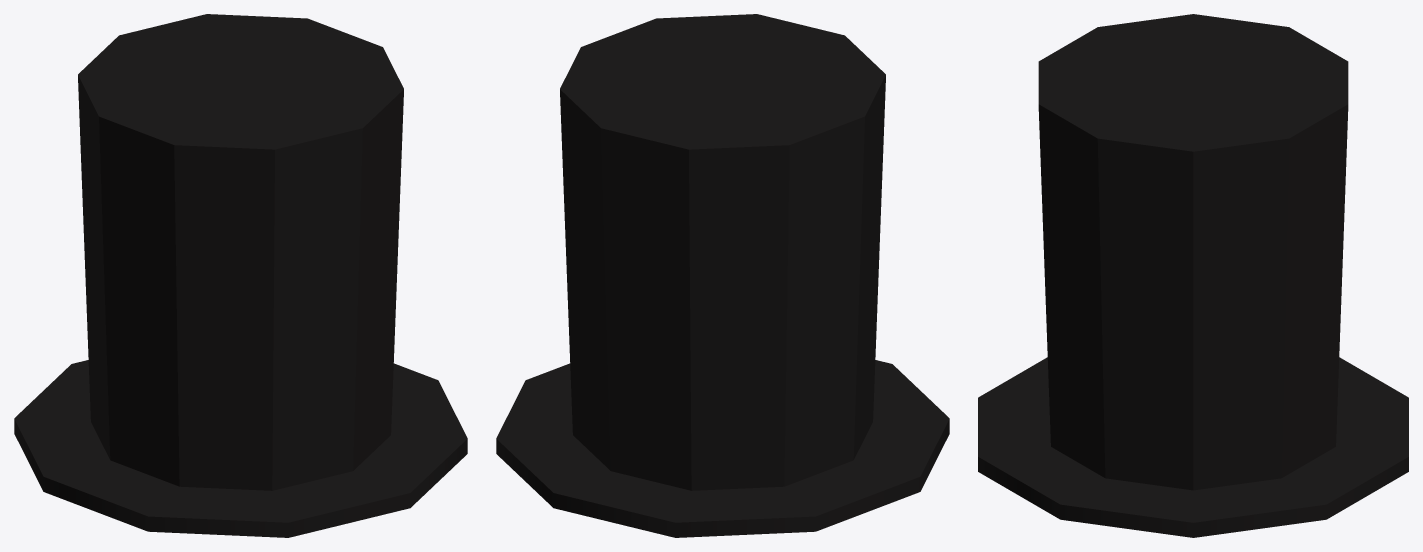
File: TopHat.FBX
3 views of the same model, side by side, from view 1: azimuth 30°, elevation 25°; view 2: azimuth 150°, elevation 25°; view 3: azimuth 270°, elevation 25° (orthographic).
Visible parts, largest first — view 1: TopHat; view 2: TopHat; view 3: TopHat.
Part boxes in pixels (x1,y1,x2,y2): TopHat: [14, 14, 467, 537]; TopHat: [496, 14, 949, 537]; TopHat: [978, 14, 1408, 537].
Size of the model in its own units: 11.06 by 9.68 by 10.52.
Materials: 1 (1 with a texture image).
